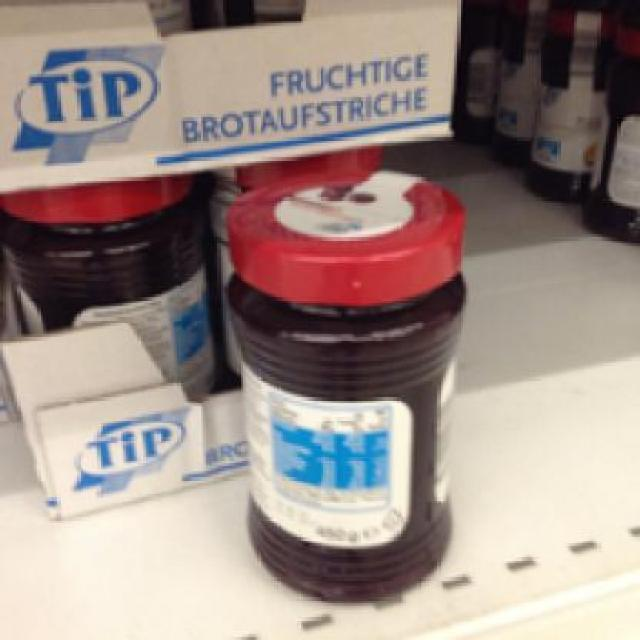Jam: (228, 165, 466, 606), (8, 185, 215, 388)
